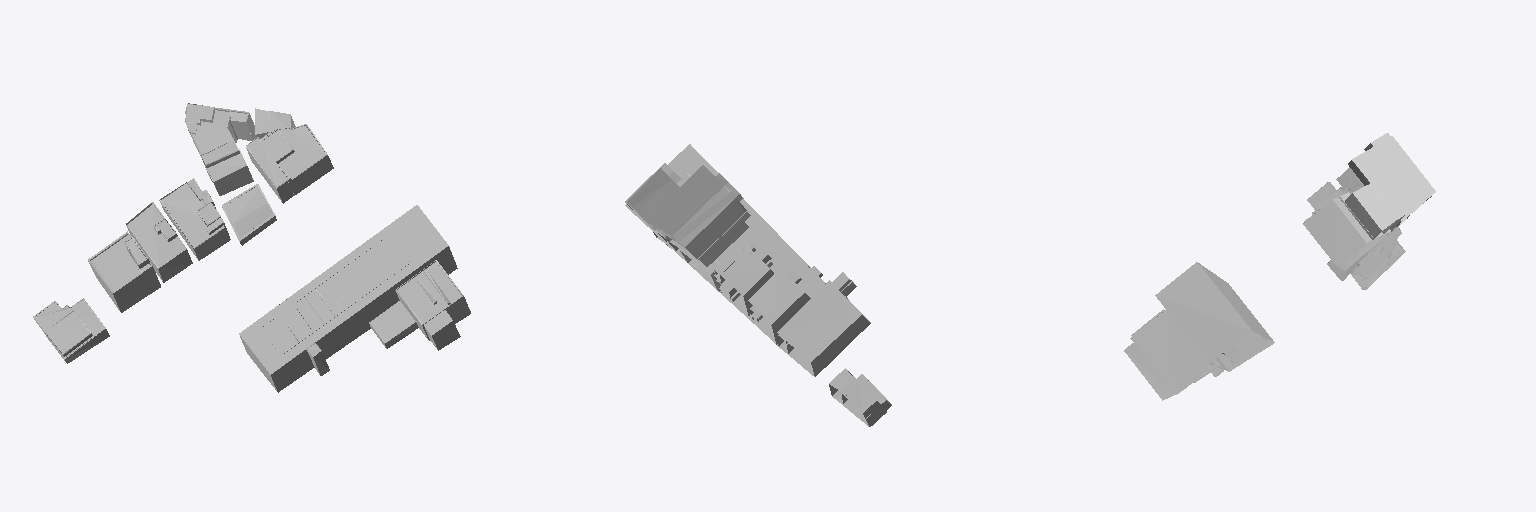
The picture shows the model from 3 angles: view 1: azimuth 30°, elevation 25°; view 2: azimuth 150°, elevation 25°; view 3: azimuth 270°, elevation 25°; orthographic projection.
Visible parts, largest first — view 1: [number redacted], [number redacted], [number redacted], [number redacted], [number redacted], [number redacted], [number redacted], [number redacted]; view 2: [number redacted], [number redacted], [number redacted], [number redacted], [number redacted], [number redacted], [number redacted]; view 3: [number redacted], [number redacted], [number redacted], [number redacted], [number redacted].
Part boxes in pixels (x1,y1,x2,y2): [number redacted]: (239, 205, 470, 392); [number redacted]: (246, 108, 333, 203); [number redacted]: (185, 103, 256, 195); [number redacted]: (88, 231, 160, 312); [number redacted]: (159, 178, 230, 260); [number redacted]: (33, 298, 109, 363); [number redacted]: (126, 202, 192, 282); [number redacted]: (222, 184, 276, 245); [number redacted]: (646, 165, 750, 267); [number redacted]: (777, 272, 870, 376); [number redacted]: (625, 144, 825, 345); [number redacted]: (713, 243, 773, 316); [number redacted]: (748, 268, 810, 344); [number redacted]: (829, 368, 891, 426); [number redacted]: (625, 163, 690, 250); [number redacted]: (1124, 262, 1274, 400); [number redacted]: (1303, 179, 1404, 270); [number redacted]: (1336, 133, 1435, 234); [number redacted]: (1350, 240, 1405, 289); [number redacted]: (1307, 182, 1396, 278).
Size of the model in its own units: 100 by 67.75 by 82.